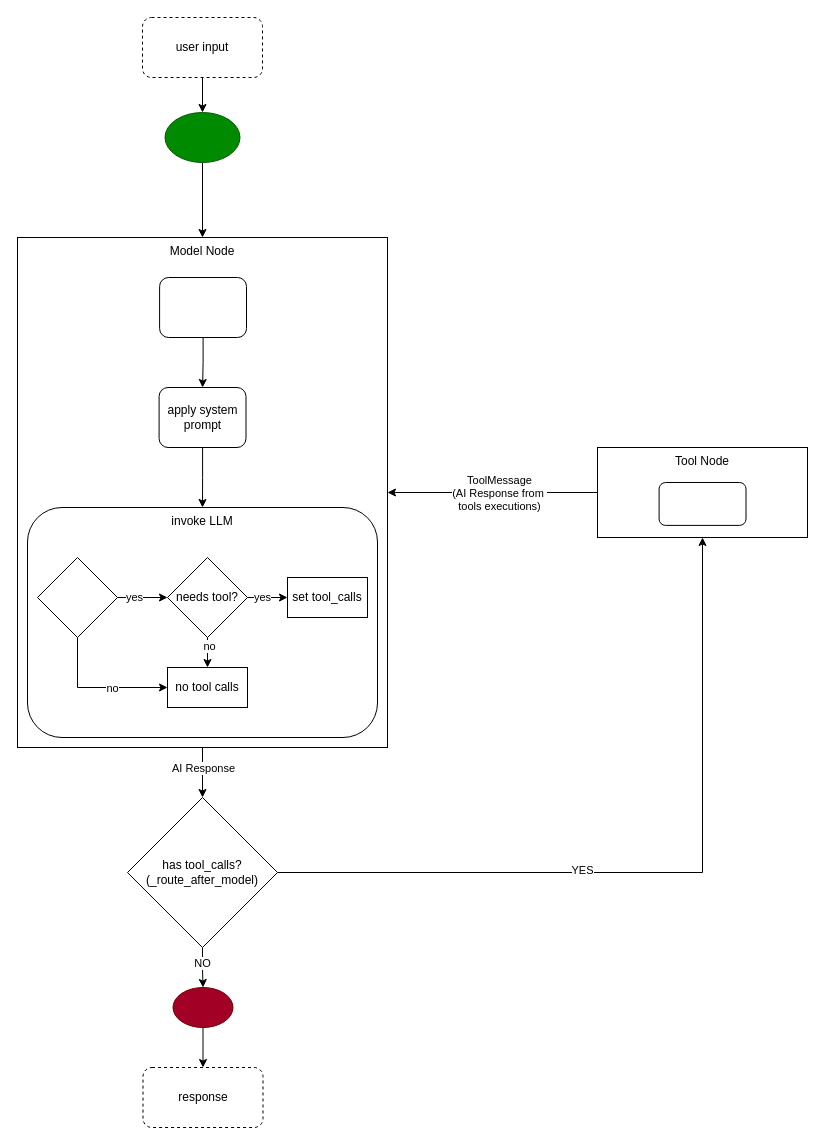
The diagram is 825 pixels wide and 1145 high, and some of its shapes have lost their labels. Here are the shapes that lost their labels. From the top down, the centre of each, then its label:
At point (202, 137): "START".
At point (202, 307): "trim messages".
At point (702, 503): "execute tools".
At point (77, 597): "has tools?".
At point (202, 1007): "END".
